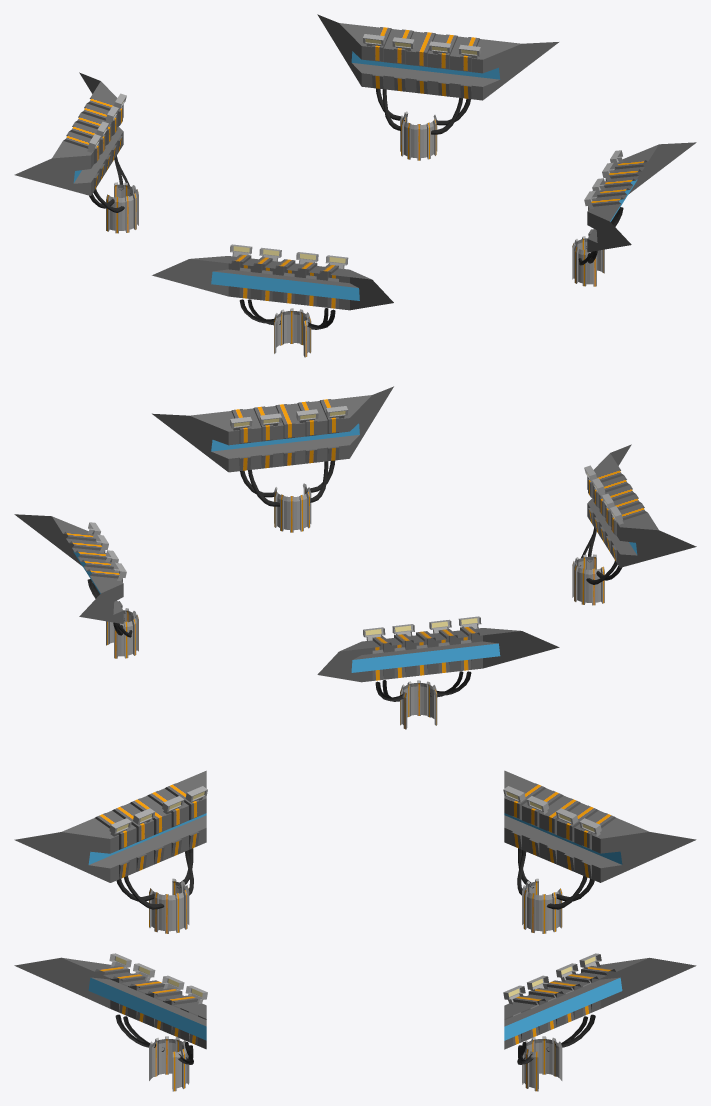
Rendered from ArenaMisc1.fbx.
3 views of the same model, one above another, from view 1: azimuth 30°, elevation 25°; view 2: azimuth 150°, elevation 25°; view 3: azimuth 270°, elevation 25° (orthographic). The views are drawn at different scales.
Visible parts, largest first — view 1: Circle; view 2: Circle; view 3: Circle.
Boxes of the visible parts, x1,y1,x2,y2 form: Circle: (14,14,696,357); Circle: (14,386,696,729); Circle: (14,770,696,1091).
Size of the model in its own units: 18444 by 3418 by 18436.
1 material, 1 textured.
